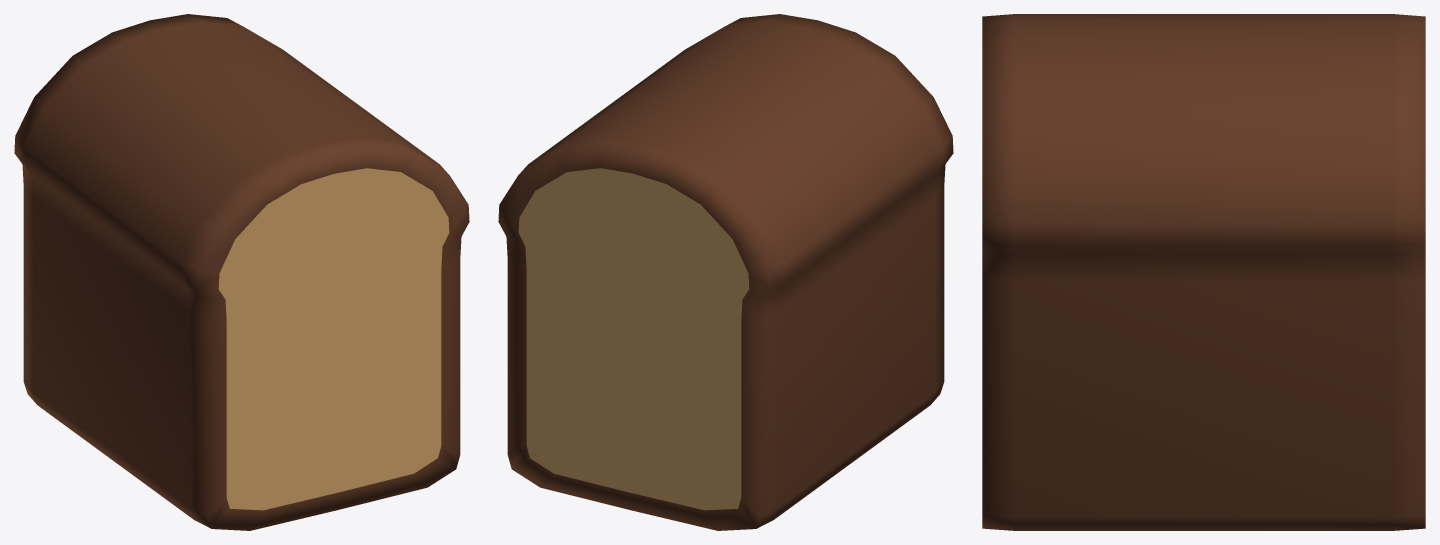
File: Bread.fbx
3 views of the same model, side by side, from view 1: azimuth 30°, elevation 25°; view 2: azimuth 150°, elevation 25°; view 3: azimuth 270°, elevation 25° (orthographic). The views are drawn at different scales.
Parts seen in each view (by area): view 1: Bread; view 2: Bread; view 3: Bread.
Boxes of the visible parts, x1,y1,x2,y2 form: Bread: (14,14,469,530); Bread: (498,14,953,530); Bread: (982,14,1425,530).
Bounding box in the file's own units: 1.2 × 1.46 × 1.36.
